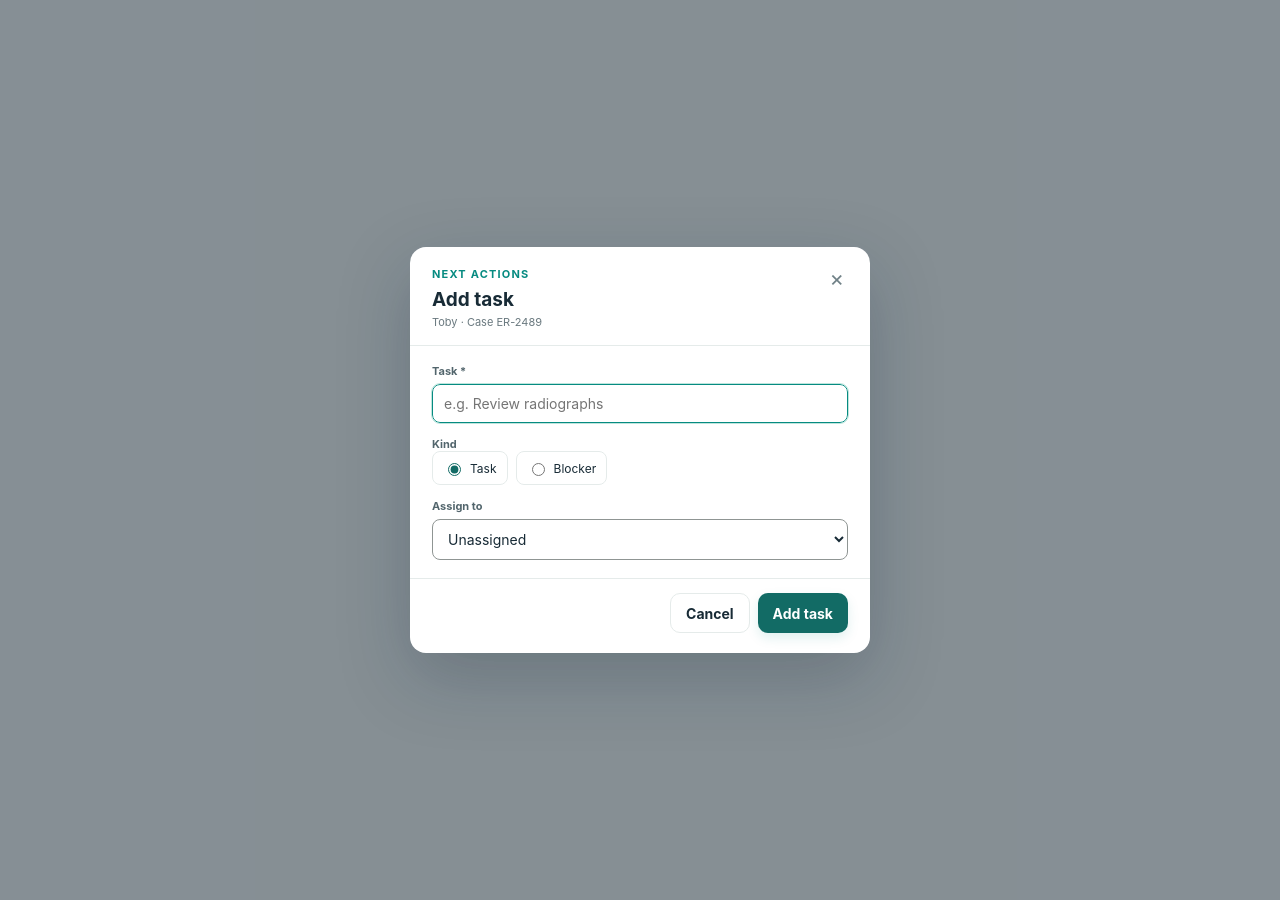
it: AddTaskDialog › shows a refused assignee under Assign to
In the field labelled "Task *": (640, 404) left=432, top=384, right=848, bottom=423, type "Review radiographs"
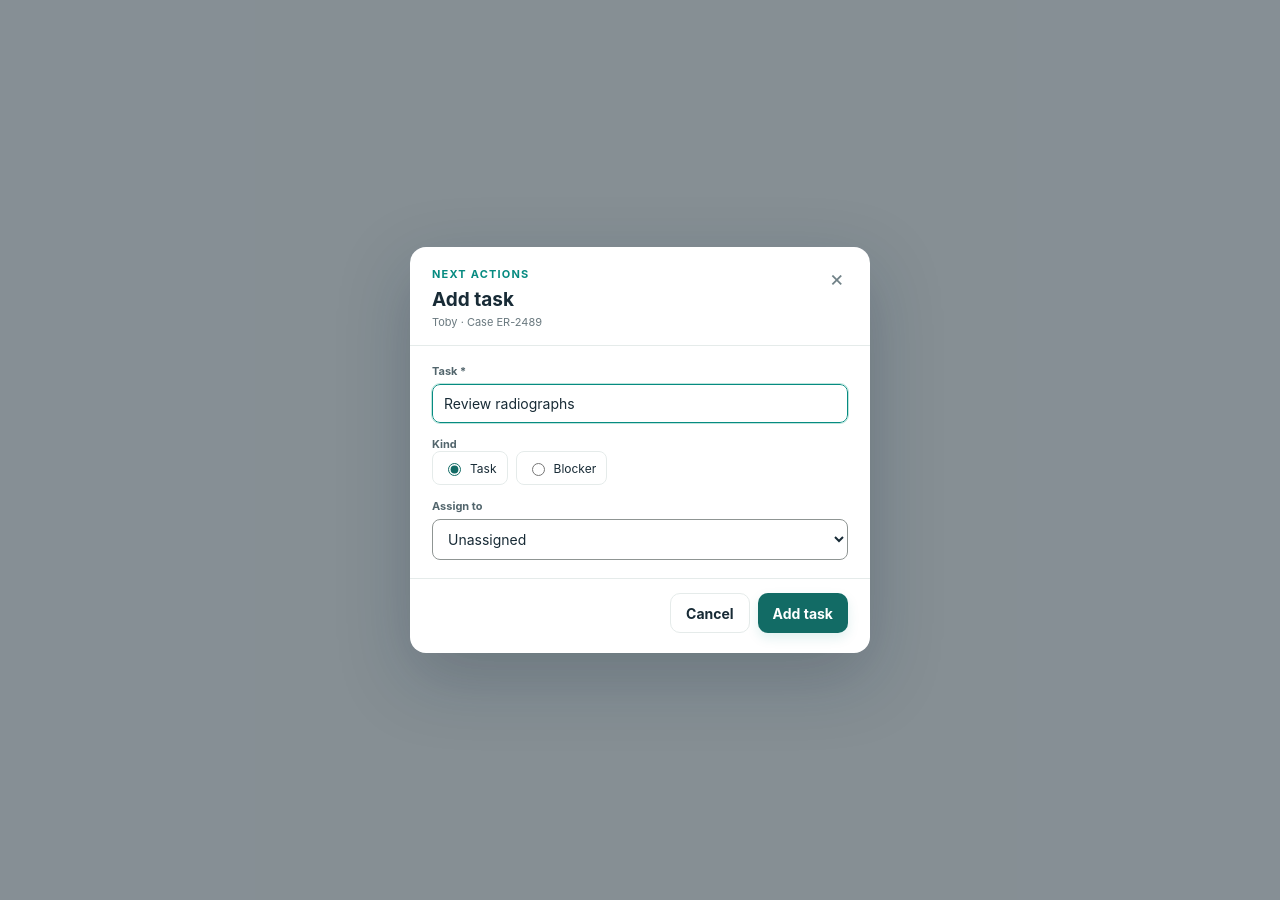
Select "Dr. Jordan Lee" in the dropdown labelled "Assign to": (640, 540) left=432, top=519, right=848, bottom=560
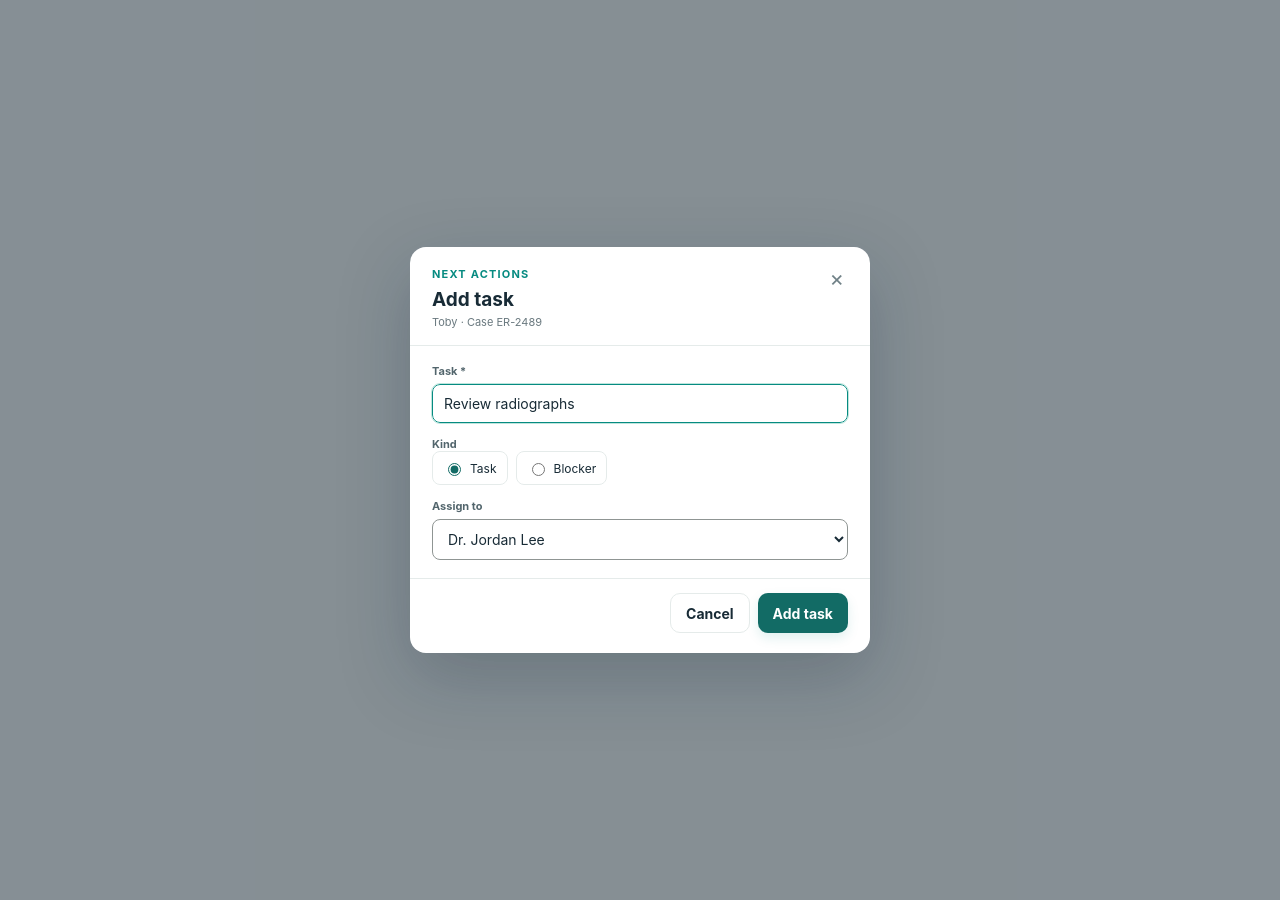
Click the button "Add task": click(803, 613) left=758, top=593, right=848, bottom=633
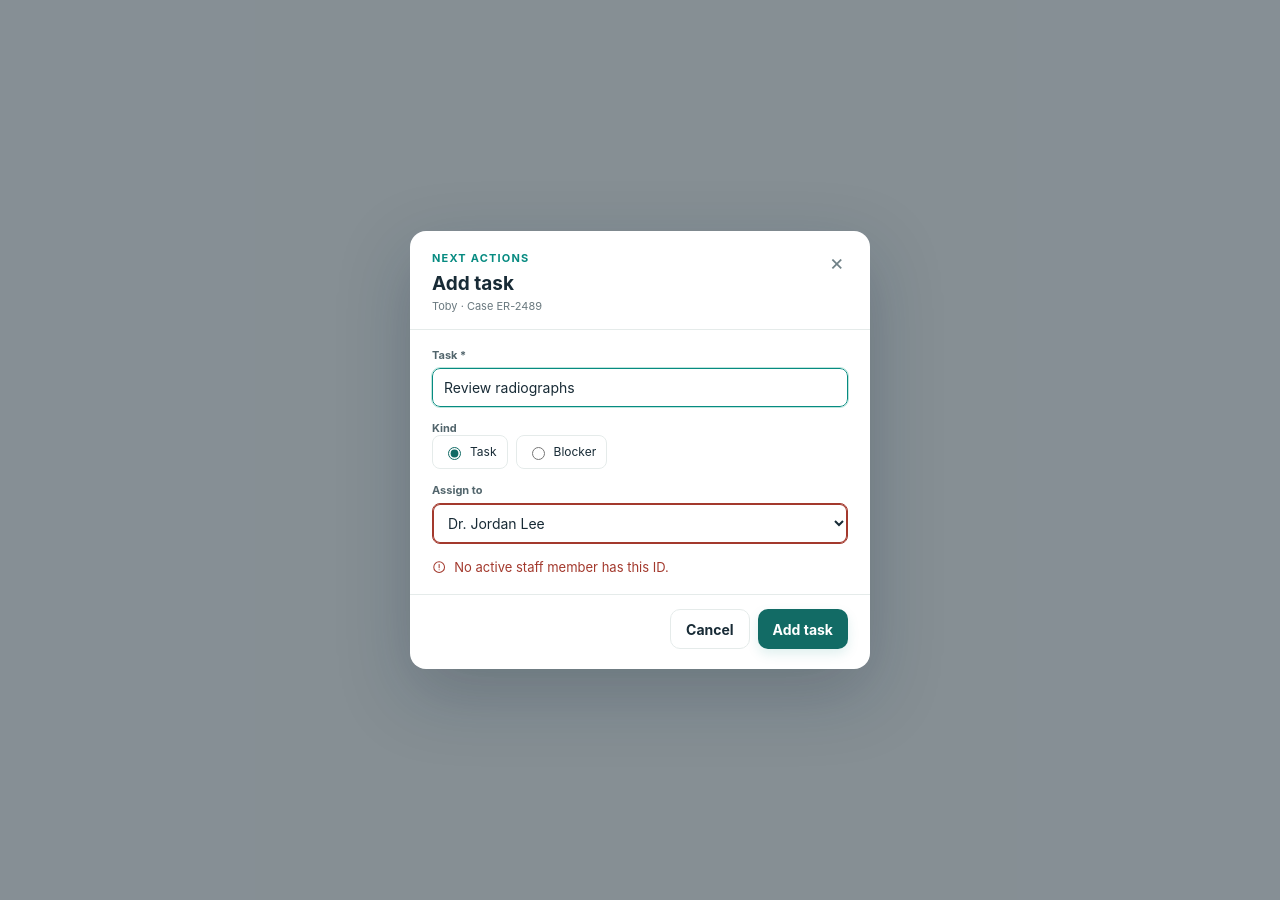
Expected: the text "No active staff member has this ID." is shown, left=432, top=559, right=669, bottom=575
